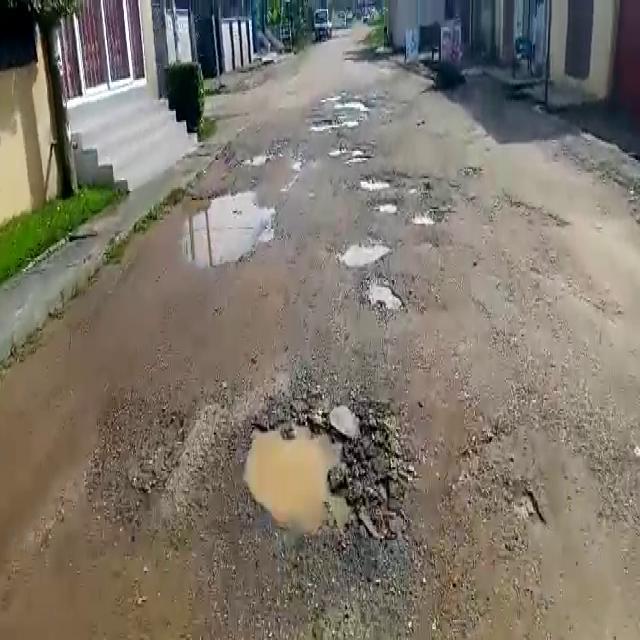Pothole: (236, 404, 401, 550), (181, 190, 274, 262), (360, 272, 410, 312), (338, 237, 390, 268), (309, 114, 361, 132), (358, 174, 402, 191), (330, 146, 373, 163), (240, 148, 273, 170), (408, 207, 444, 225), (373, 197, 400, 211)
